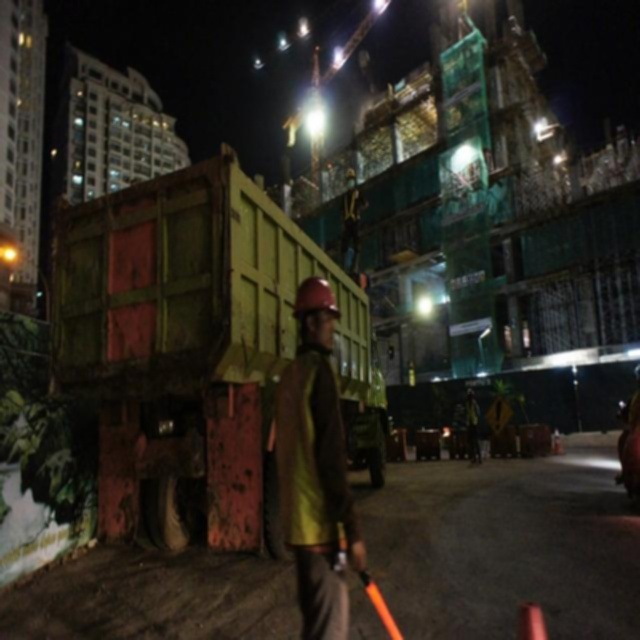Con_Casco: (291, 275, 340, 355)
